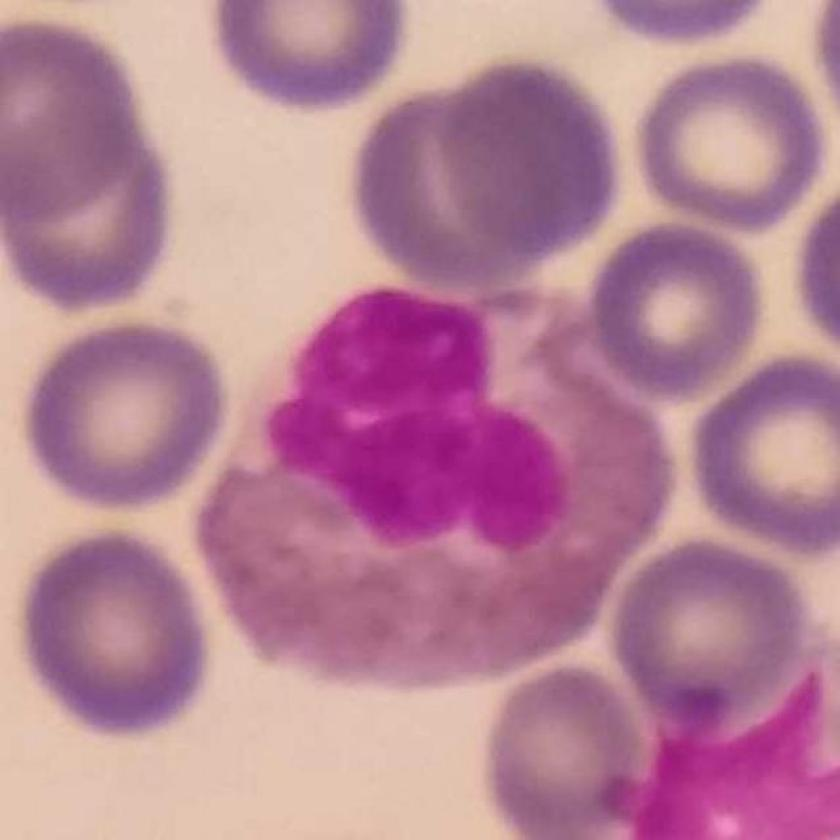eosinophil: (194, 281, 681, 692)
